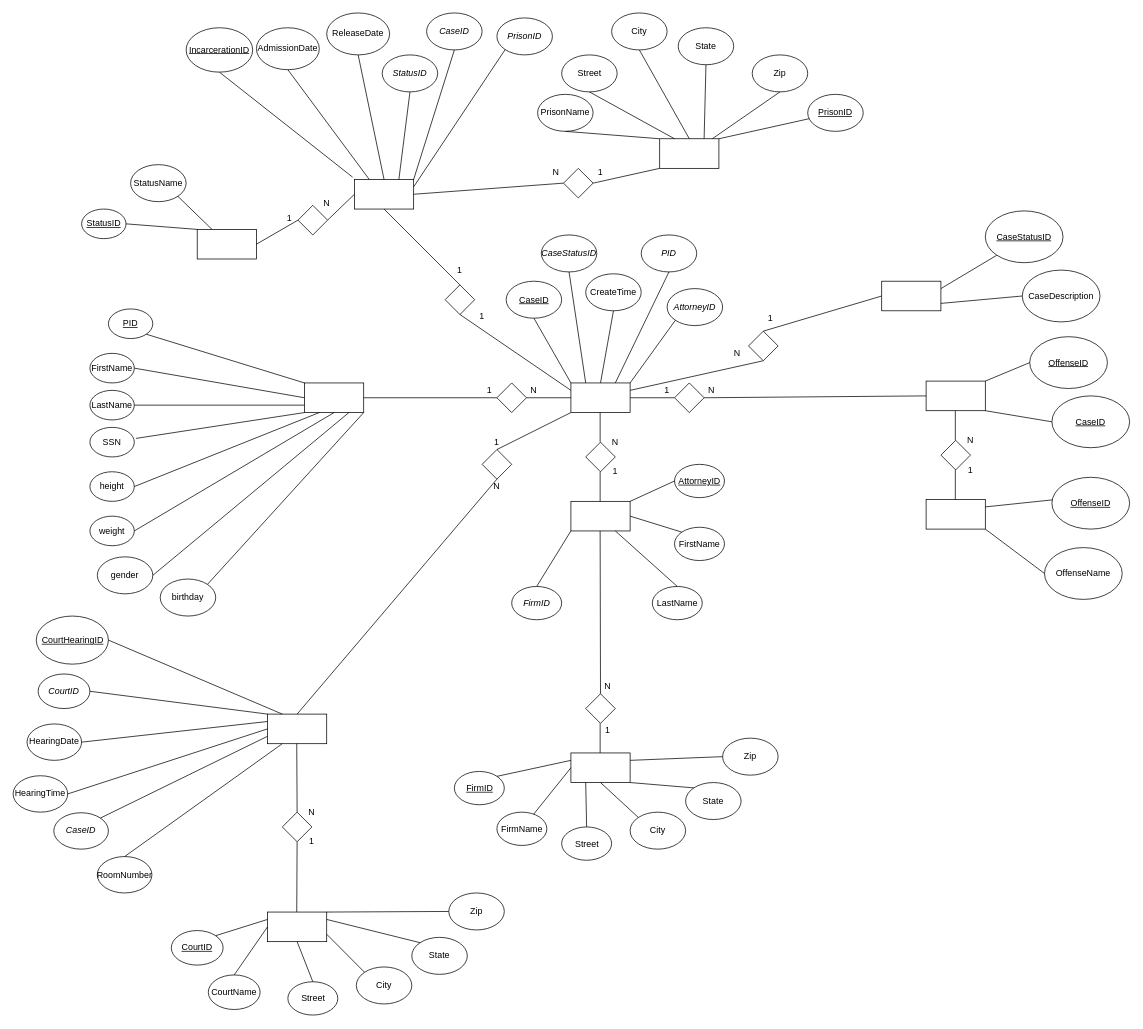
Image size: 1143x1029. Some labels were removed from this diagram. The box of each missing label's shape, as (x1, y1, x2, y2) in pixels:
Attorney: (570, 501, 630, 531)
Case: (570, 382, 630, 413)
Case Status: (881, 280, 941, 311)
Case-Offenses: (925, 380, 985, 411)
Court: (267, 911, 327, 942)
Court_Hearing: (267, 713, 327, 744)
Incarceration Table: (354, 179, 414, 209)
Legal_Firm: (570, 752, 630, 783)
Offense Category: (925, 499, 985, 529)
Prison: (659, 138, 719, 168)
Prisoner: (304, 382, 364, 413)
Release Status: (196, 229, 256, 259)
